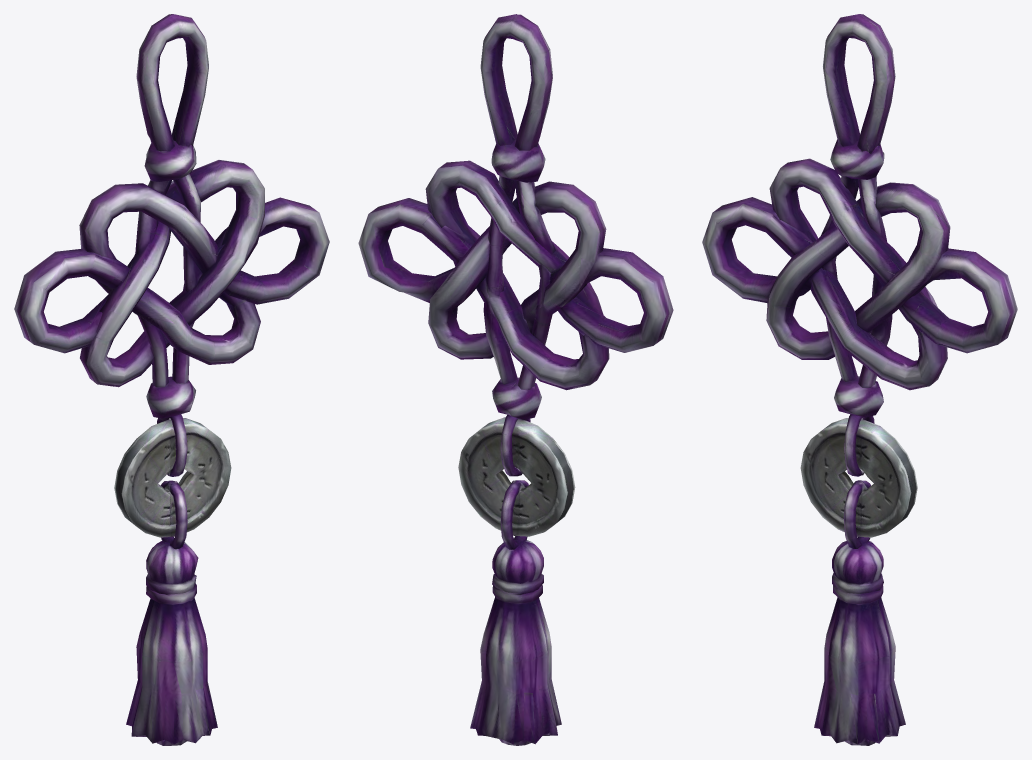
Rendered from lucky_knot.glb.
3 renders of one model, left to right at view 1: azimuth 30°, elevation 25°; view 2: azimuth 150°, elevation 25°; view 3: azimuth 330°, elevation 25°, orthographic.
Parts seen in each view (by area): view 1: Mesh_0; view 2: Mesh_0; view 3: Mesh_0.
Part boxes in pixels (x1,y1,x2,y2): Mesh_0: [14, 14, 329, 745]; Mesh_0: [358, 14, 673, 745]; Mesh_0: [702, 14, 1017, 745].
Size of the model in its own units: 1 by 2.28 by 0.2573.
Materials: 1 (1 with a texture image).
